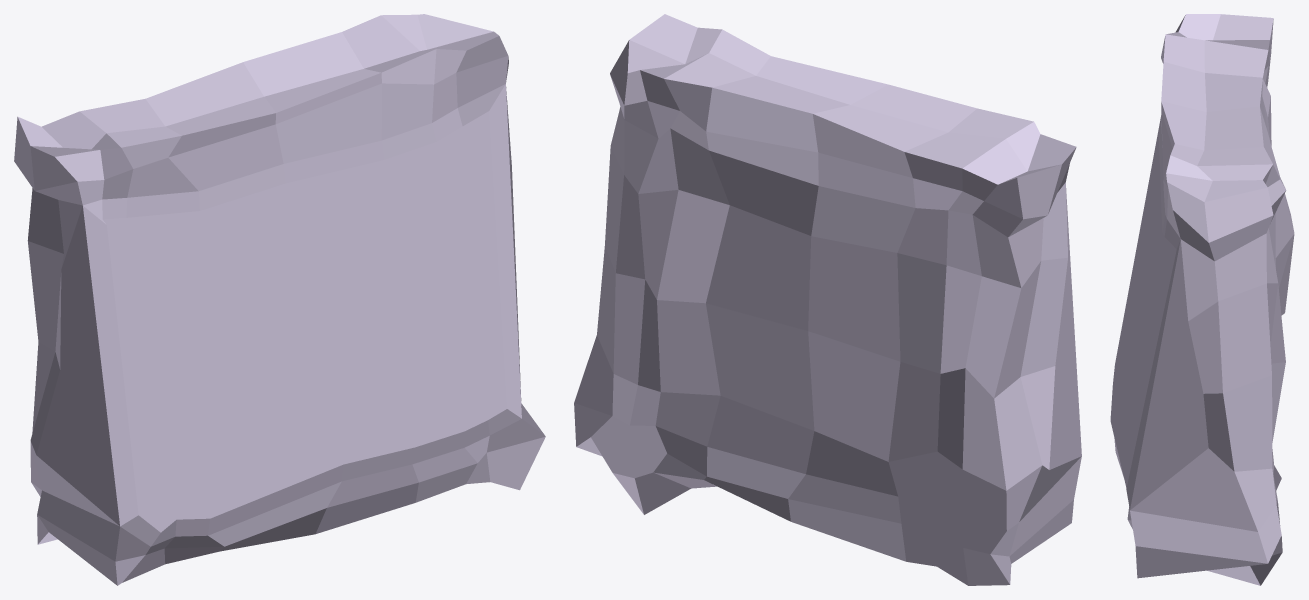
Rendered from ParedCaminableInvertida.glb.
3 renders of one model, left to right at view 1: azimuth 30°, elevation 25°; view 2: azimuth 150°, elevation 25°; view 3: azimuth 270°, elevation 25°, orthographic. The views are drawn at different scales.
Visible parts, largest first — view 1: Plane; view 2: Plane; view 3: Plane.
Boxes of the visible parts, bbox=[...] form: Plane: bbox=[14, 14, 545, 585]; Plane: bbox=[574, 14, 1081, 585]; Plane: bbox=[1110, 14, 1294, 585].
Size of the model in its own units: 2.44 by 2.28 by 0.9084.
